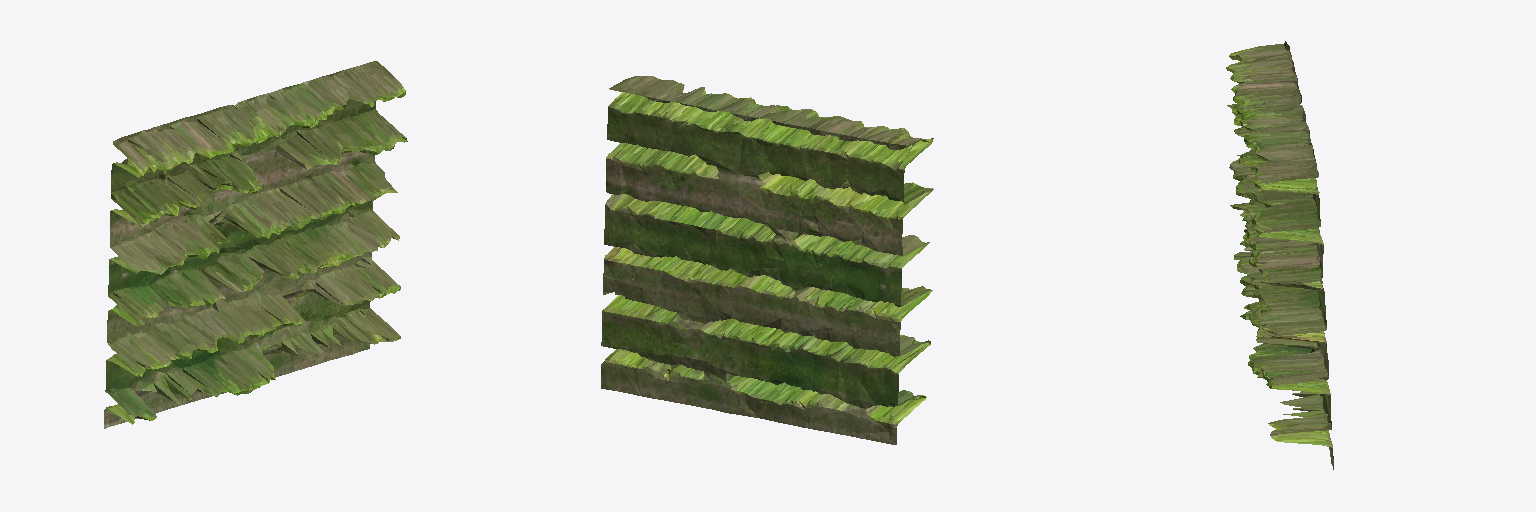
The picture shows the model from 3 angles: view 1: azimuth 30°, elevation 25°; view 2: azimuth 150°, elevation 25°; view 3: azimuth 270°, elevation 25°; orthographic projection.
Visible parts, largest first — view 1: grp1; view 2: grp1; view 3: grp1.
Boxes of the visible parts, x1=… form: grp1: x1=104, y1=61, x2=407, y2=428; grp1: x1=601, y1=76, x2=933, y2=444; grp1: x1=1226, y1=41, x2=1333, y2=469.
Bounding box in the file's own units: 10 × 10 × 3.32.
1 materials, 1 textured.